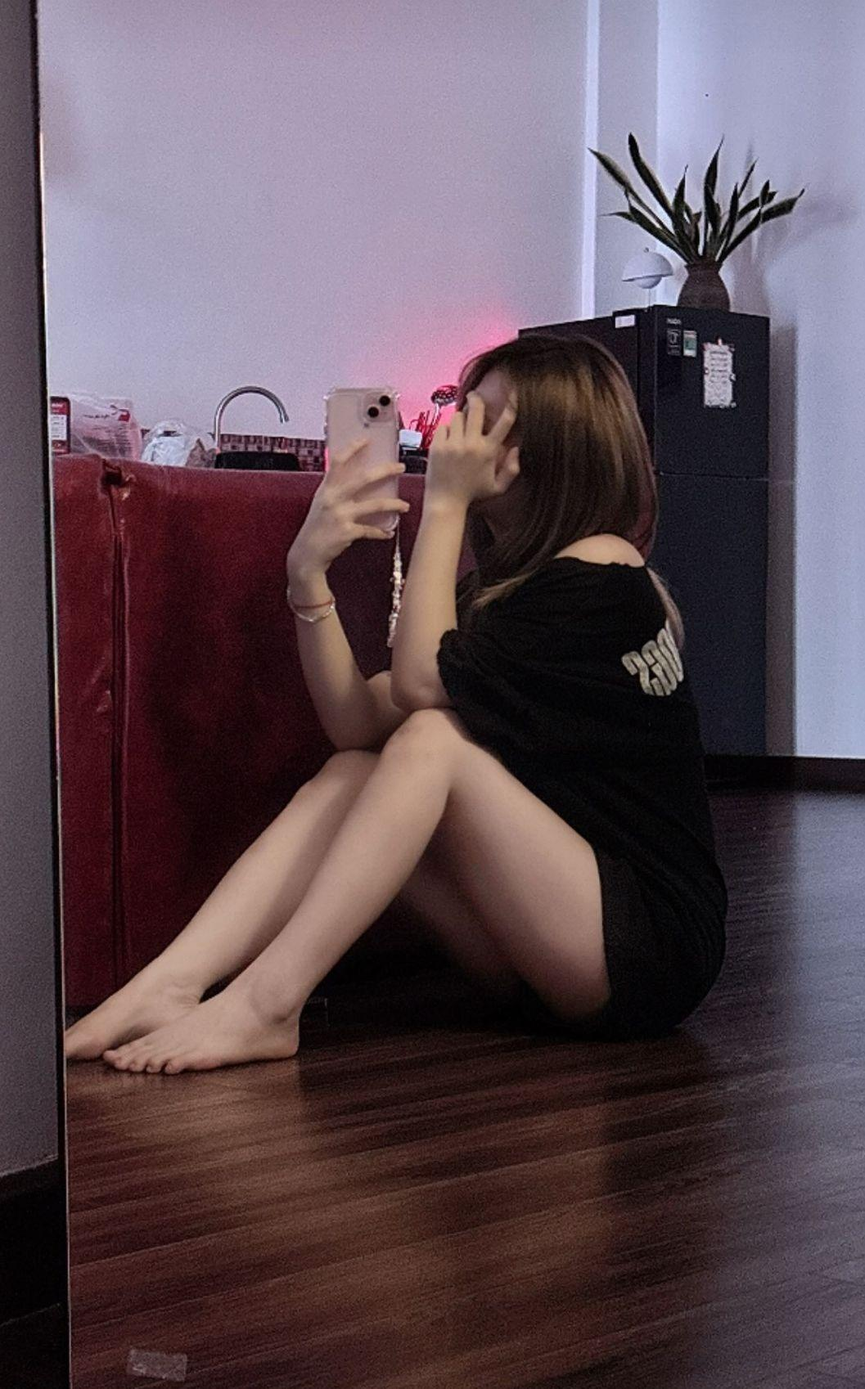non-dog: (59, 326, 729, 1081)
